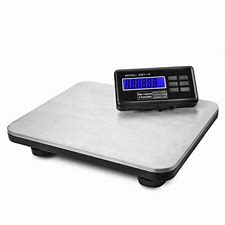Industrial Scale: (7, 65, 220, 188)
